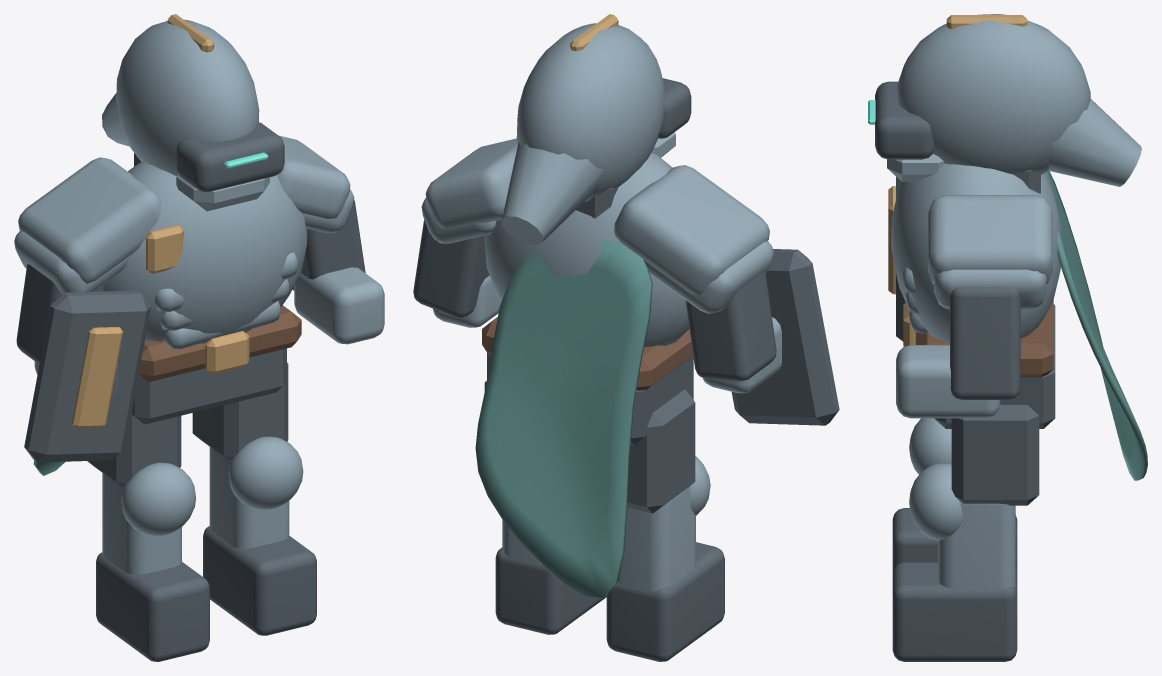
Rendered from FallenKnight.fbx.
3 renders of one model, left to right at view 1: azimuth 30°, elevation 25°; view 2: azimuth 150°, elevation 25°; view 3: azimuth 270°, elevation 25°, orthographic. The views are drawn at different scales.
Visible parts, largest first — view 1: Steel.Chest, Steel.Helm, Iron.Shield, Steel.Pauldron, Iron.LeftLegBoot, Iron.RightLegBoot, Iron.Cuisses, Steel.Gauntlet.001, Iron.Faceplate, Iron.RightLegThigh, Steel.RightLegKnee, Steel.LeftLegKnee (+18 smaller); view 2: Mantle.Mantle, Steel.Helm, Steel.Pauldron, Iron.Shield, Steel.Chest, Iron.LeftLegBoot, Iron.Arm, Steel.SalletTail, Iron.LeftLegThigh, Steel.LeftLegGreave, Steel.Pauldron.002, Iron.RightLegBoot (+11 smaller); view 3: Steel.Helm, Iron.RightLegBoot, Steel.Pauldron.002, Steel.Chest, Iron.RightLegThigh, Iron.Arm.001, Steel.RightLegGreave, Mantle.Mantle, Steel.SalletTail, Steel.Gauntlet.001, Iron.Faceplate, Steel.RightLegKnee (+9 smaller).
Boxes of the visible parts, x1=… form: Steel.Chest: x1=104, y1=162, x2=307, y2=343; Steel.Helm: x1=116, y1=19, x2=259, y2=175; Iron.Shield: x1=24, y1=290, x2=151, y2=462; Steel.Pauldron: x1=18, y1=157, x2=161, y2=283; Iron.LeftLegBoot: x1=96, y1=552, x2=209, y2=661; Iron.RightLegBoot: x1=203, y1=526, x2=316, y2=635; Iron.Cuisses: x1=132, y1=348, x2=286, y2=424; Steel.Gauntlet.001: x1=294, y1=267, x2=384, y2=344; Iron.Faceplate: x1=176, y1=122, x2=284, y2=192; Iron.RightLegThigh: x1=192, y1=362, x2=288, y2=460; Steel.RightLegKnee: x1=228, y1=436, x2=303, y2=509; Steel.LeftLegKnee: x1=121, y1=462, x2=195, y2=535; Mantle.Mantle: x1=475, y1=240, x2=652, y2=597; Steel.Helm: x1=516, y1=23, x2=664, y2=201; Steel.Pauldron: x1=614, y1=165, x2=769, y2=295; Iron.Shield: x1=731, y1=249, x2=839, y2=425; Steel.Chest: x1=484, y1=152, x2=689, y2=347; Iron.LeftLegBoot: x1=606, y1=542, x2=724, y2=661; Iron.Arm: x1=685, y1=272, x2=776, y2=381; Steel.SalletTail: x1=502, y1=142, x2=603, y2=244; Iron.LeftLegThigh: x1=627, y1=389, x2=695, y2=513; Steel.LeftLegGreave: x1=617, y1=486, x2=695, y2=591; Steel.Pauldron.002: x1=425, y1=138, x2=517, y2=228; Iron.RightLegBoot: x1=495, y1=547, x2=606, y2=634; Steel.Helm: x1=897, y1=14, x2=1090, y2=174; Iron.RightLegBoot: x1=892, y1=562, x2=1017, y2=661; Steel.Pauldron.002: x1=928, y1=195, x2=1052, y2=284; Steel.Chest: x1=891, y1=164, x2=1062, y2=343; Iron.RightLegThigh: x1=951, y1=405, x2=1039, y2=505; Iron.Arm.001: x1=950, y1=287, x2=1020, y2=399; Steel.RightLegGreave: x1=938, y1=500, x2=1015, y2=589; Mantle.Mantle: x1=1045, y1=171, x2=1147, y2=480; Steel.SalletTail: x1=1047, y1=99, x2=1141, y2=186; Steel.Gauntlet.001: x1=896, y1=345, x2=1000, y2=418; Iron.Faceplate: x1=875, y1=81, x2=934, y2=159; Steel.RightLegKnee: x1=909, y1=463, x2=962, y2=540.
Bounding box in the file's own units: 1.28 × 1.99 × 0.8297.
